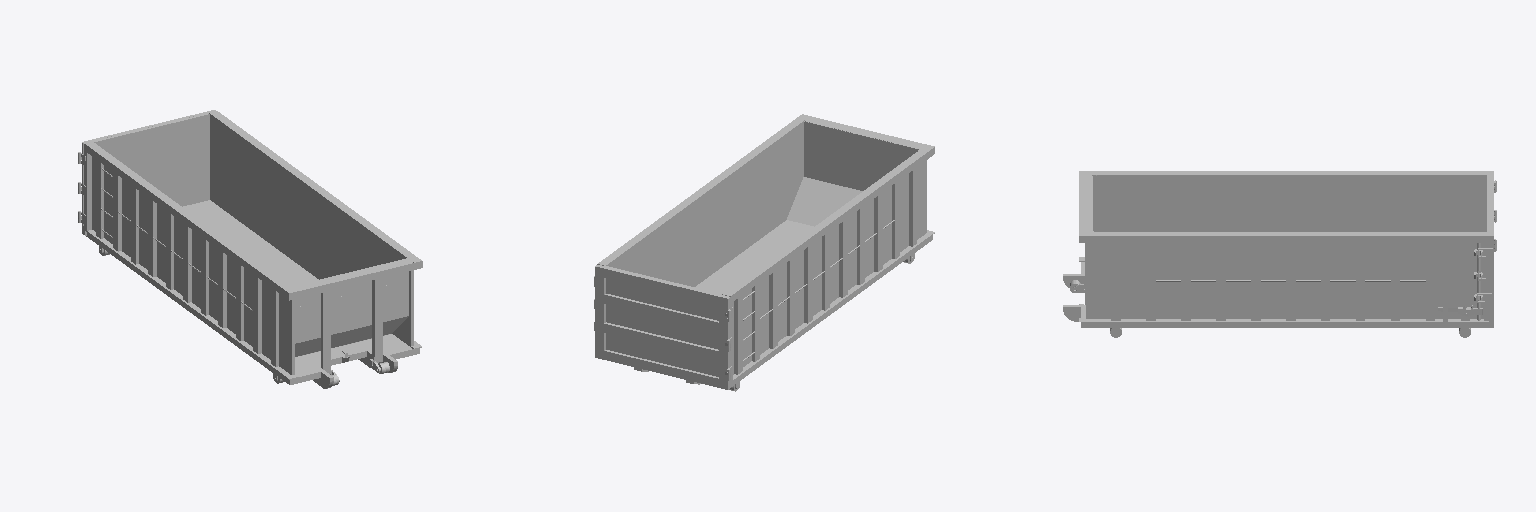
The model's file is 30YardRecDumpster.obj.
The picture shows the model from 3 angles: view 1: azimuth 30°, elevation 25°; view 2: azimuth 150°, elevation 25°; view 3: azimuth 270°, elevation 25°; orthographic projection.
Parts seen in each view (by area): view 1: Object.2; view 2: Object.2; view 3: Object.2.
Boxes of the visible parts, box(x1,y1,x2,y2) form: Object.2: box(78, 110, 422, 388); Object.2: box(594, 114, 934, 391); Object.2: box(1063, 171, 1496, 337).
Size of the model in its own units: 45.32 by 32.29 by 121.